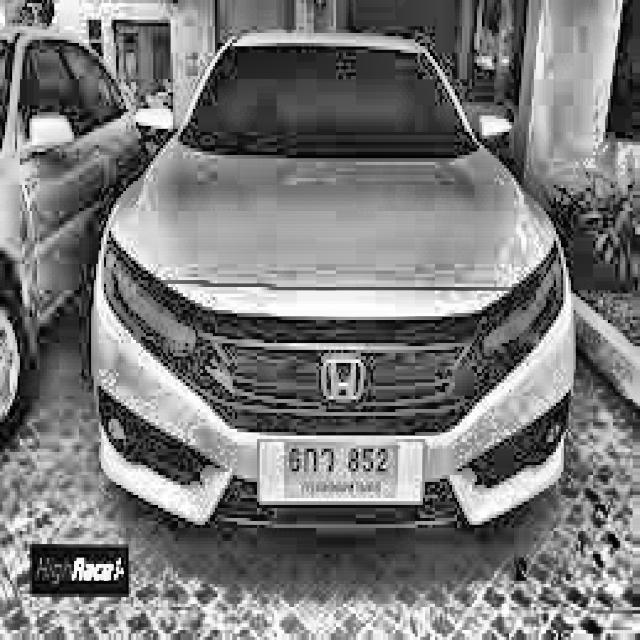license-plate: (253, 432, 433, 520)
